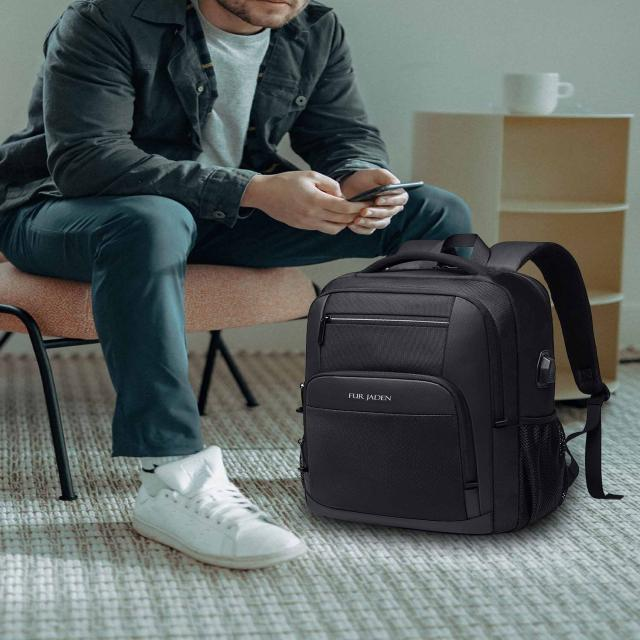backpack: (297, 234, 624, 537)
